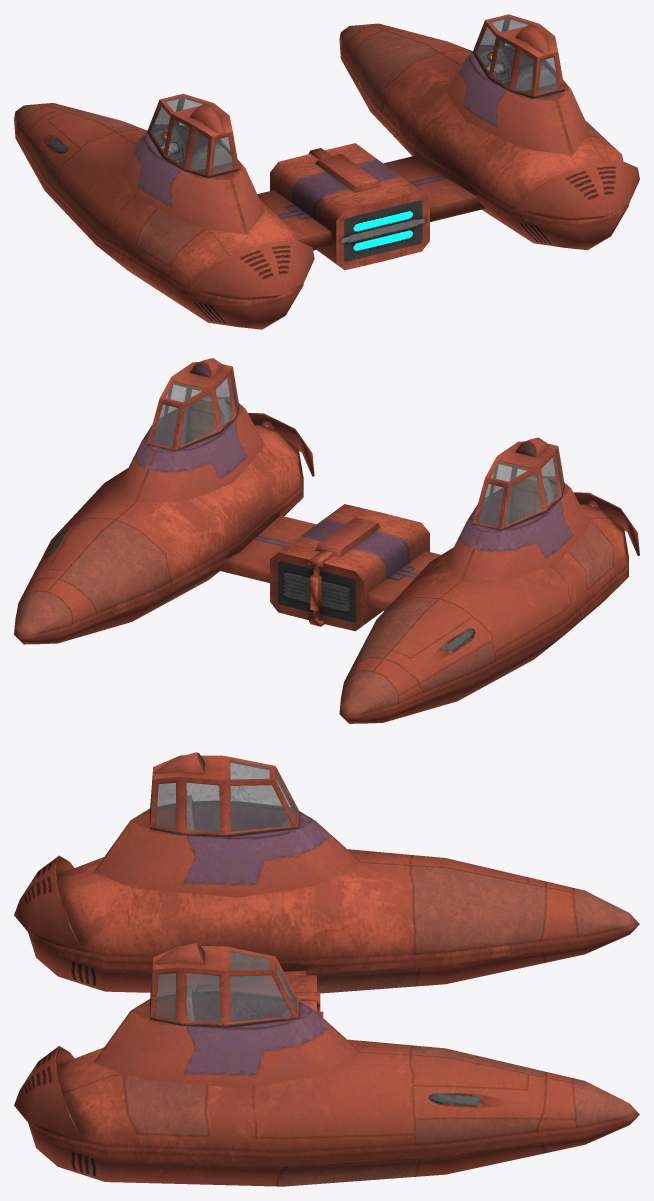
The picture shows the model from 3 angles, top to bottom: view 1: azimuth 30°, elevation 25°; view 2: azimuth 150°, elevation 25°; view 3: azimuth 270°, elevation 25°; orthographic projection. The views are drawn at different scales.
Parts seen in each view (by area): view 1: Object_2, Object_3; view 2: Object_2, Object_3; view 3: Object_2, Object_3.
Boxes of the visible parts, left/top/right/bottom form: Object_2: left=14, top=14, right=639, bottom=329; Object_3: left=150, top=18, right=558, bottom=172; Object_2: left=14, top=358, right=639, bottom=723; Object_3: left=153, top=373, right=562, bottom=526; Object_2: left=14, top=752, right=639, bottom=1186; Object_3: left=156, top=761, right=296, bottom=1022.
Bounding box in the file's own units: 4.76 × 1.88 × 4.58.
2 materials, 2 textured.
